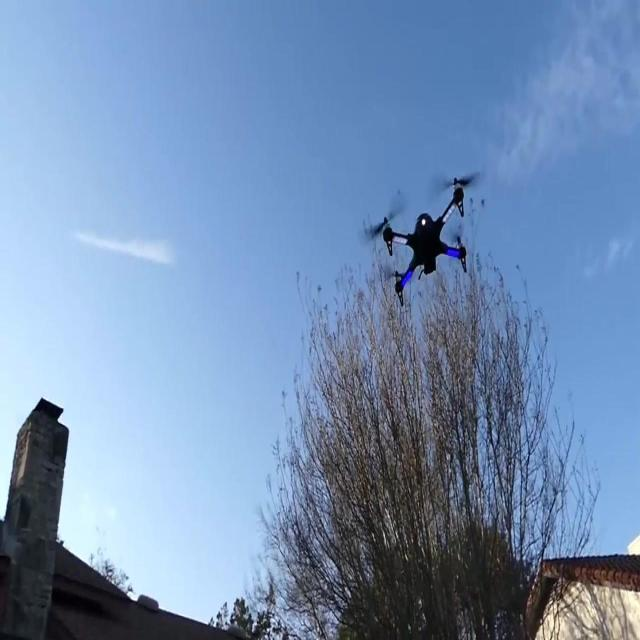drone: (364, 174, 482, 307)
